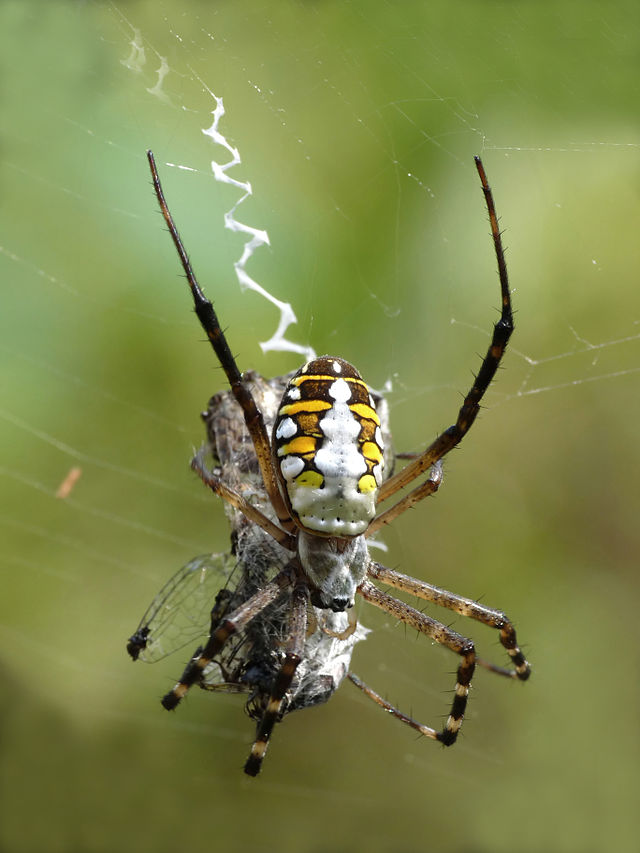spider: (61, 102, 583, 822)
